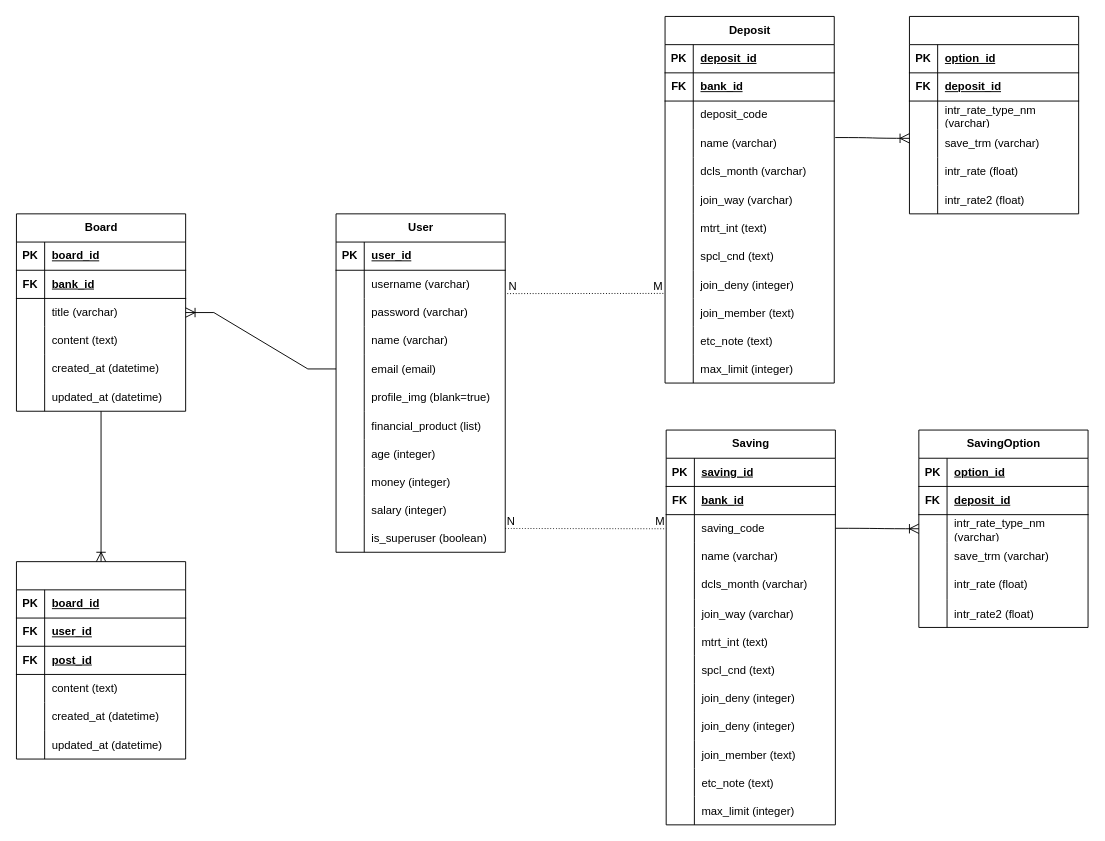
Image size: 1105x841. Some labels were removed from this diagram. Here are the shapes that lost their labels. From the top down, the box of each, then its label:
(909, 16, 1079, 214): DepositOption
(16, 561, 186, 759): Comment
